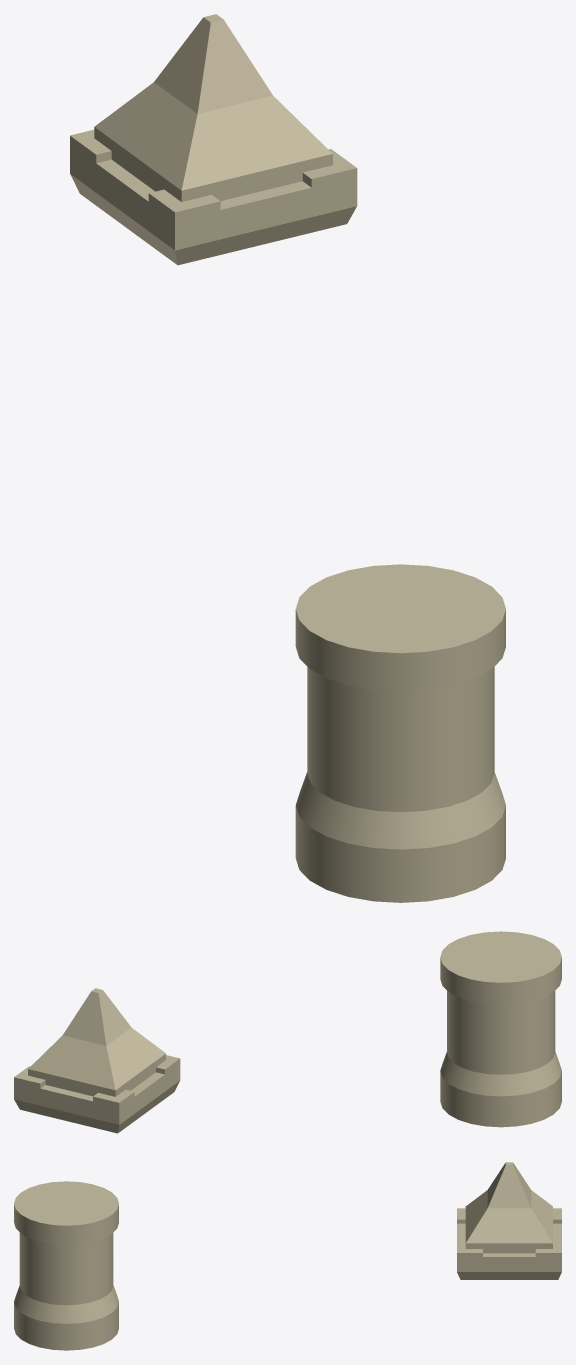
Rendered from tower.glb.
3 renders of one model, top to bottom at view 1: azimuth 30°, elevation 25°; view 2: azimuth 150°, elevation 25°; view 3: azimuth 270°, elevation 25°, orthographic. The views are drawn at different scales.
Size of the model in its own units: 24.03 by 23.8 by 52.11.
